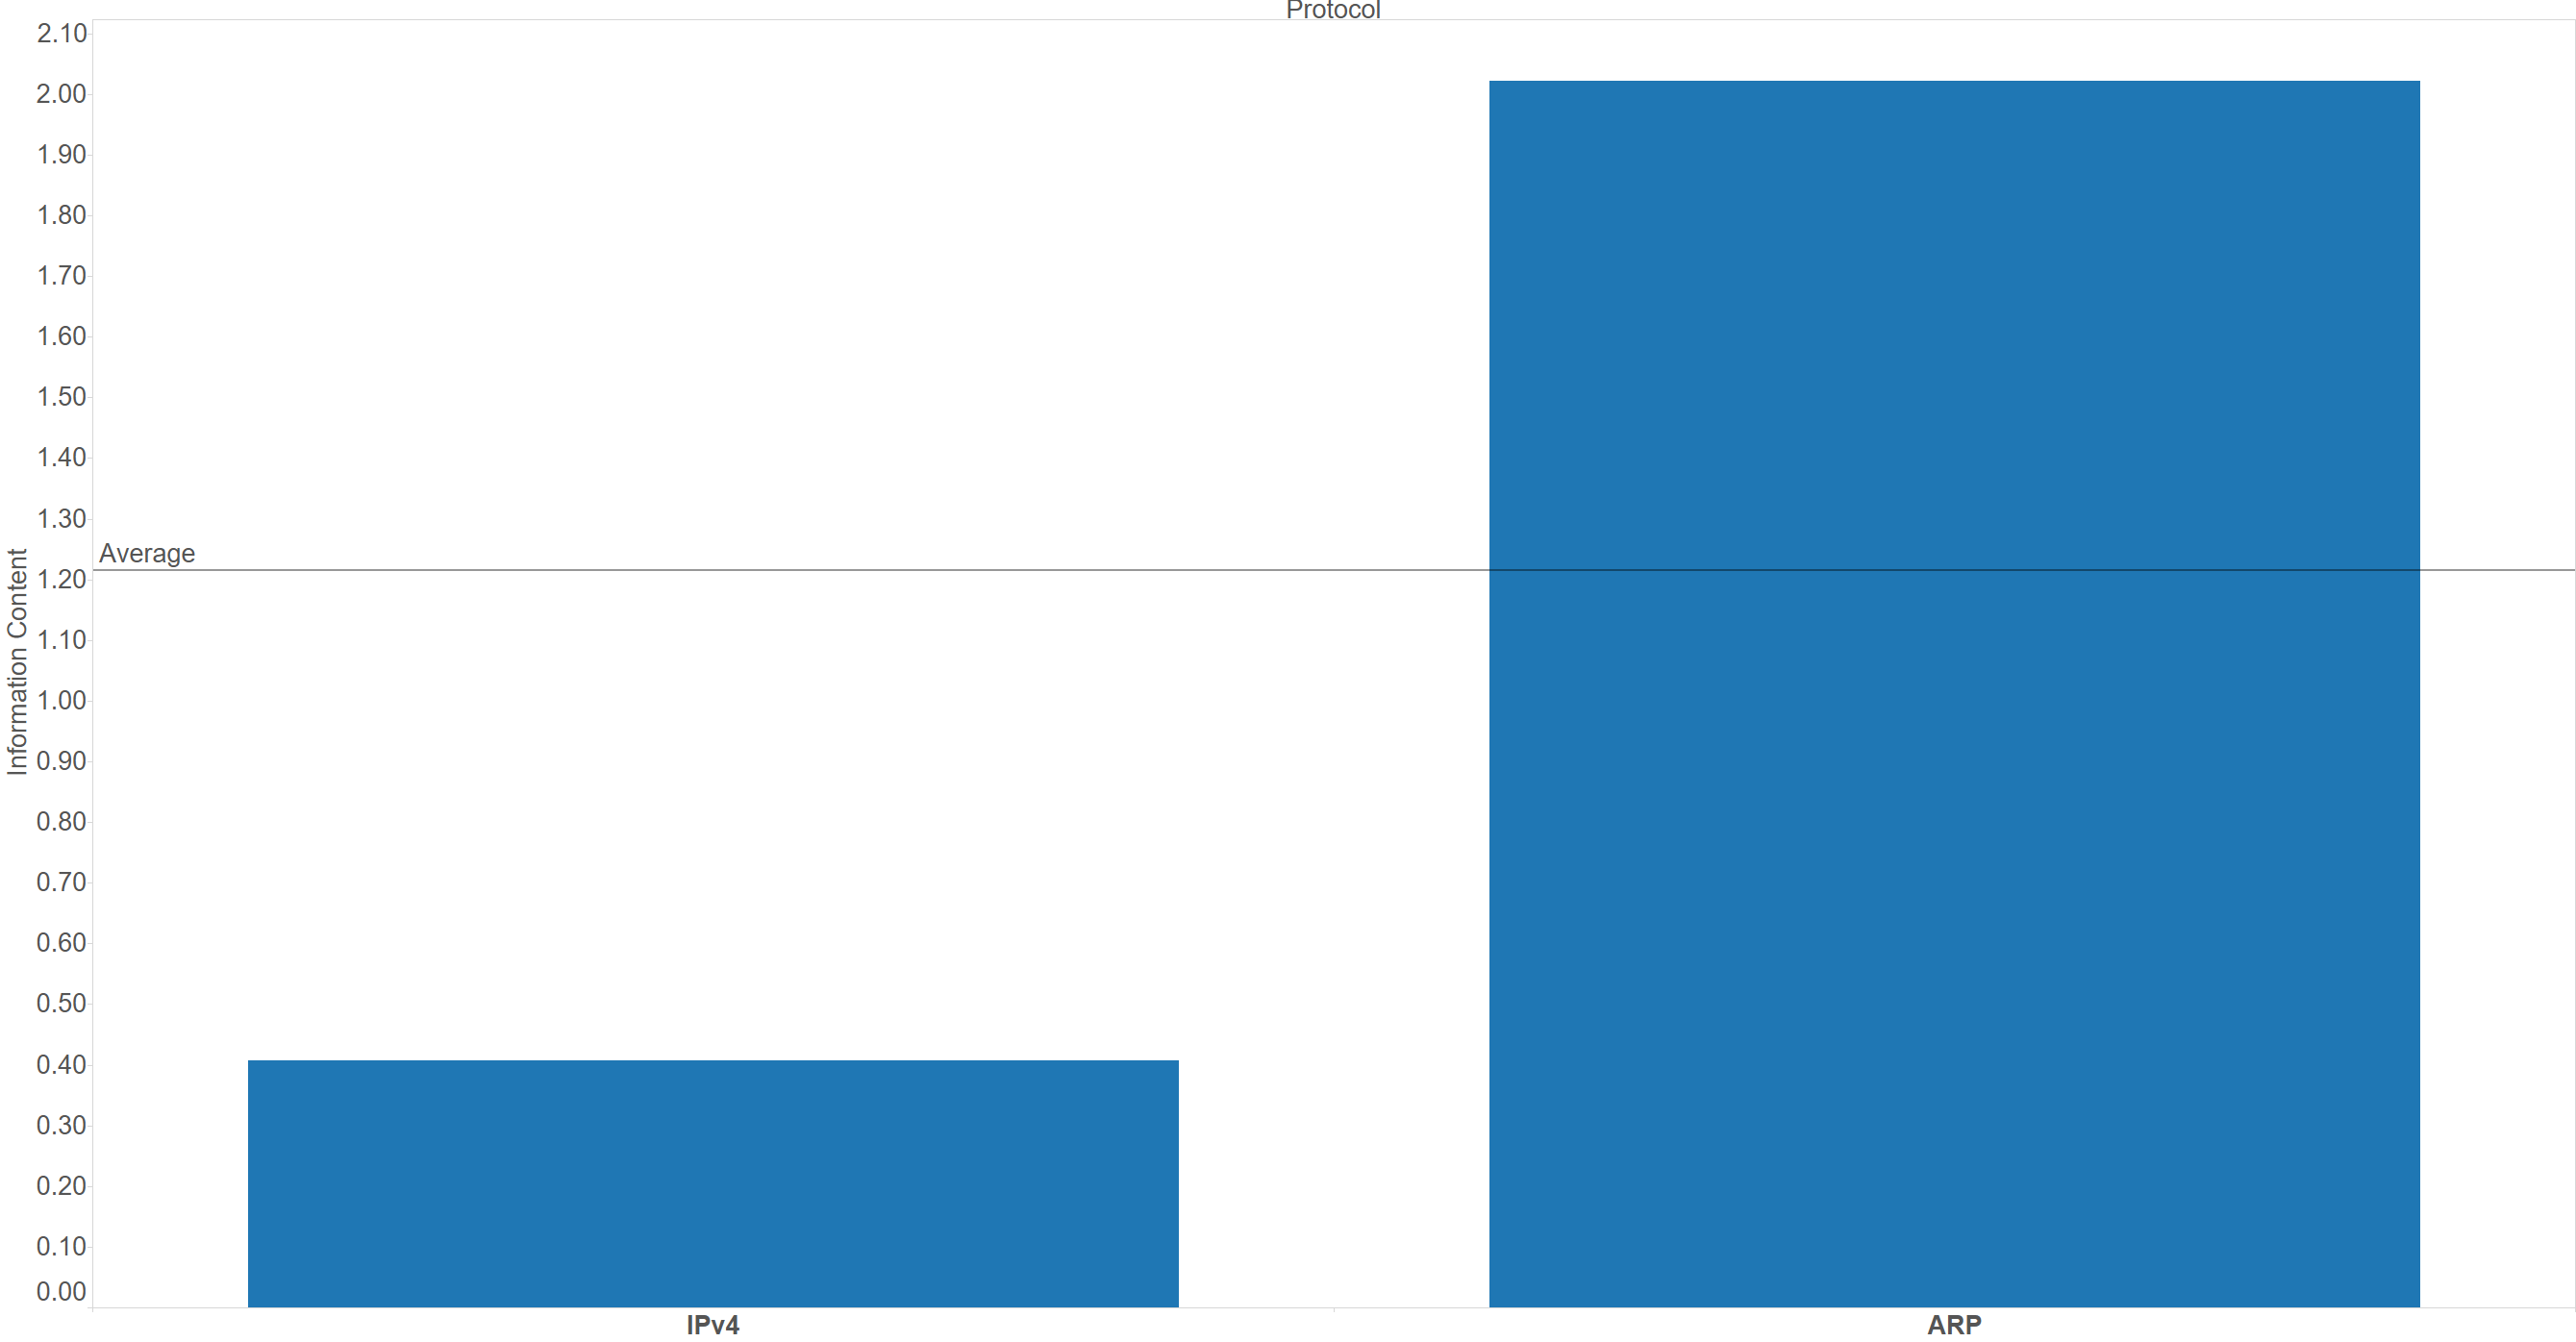

This screenshot's page, from the dashboard's own definition file:
{"tool":"tableau","page":{"name":"Protocol PDF Dashboard","canvas":[1000,1000],"units":"permille","ordinal":2},"visuals":[{"type":"worksheet","title":"Protocol PDF","mark":"Bar","rows":["Calculation_558446359775064070"],"cols":["protocol"],"box":[0,0,1000,1000]}]}

Visuals, with their boxes on the dashboard's canvas, which has no fixed pixel size, in thousandths of its width and height (x1, y1, x2, y2). These are canvas units, not pixel positions in the 2576x1342 screenshot, which may show the page scaled, cropped or inside an application window:
"Protocol PDF" worksheet (Bar marks): select_region(0, 0, 1000, 1000)
